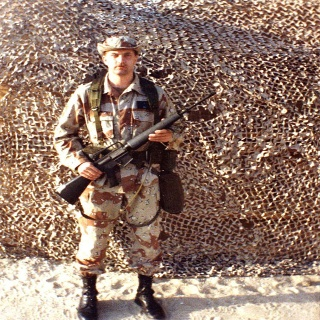rifle: (53, 91, 217, 206)
